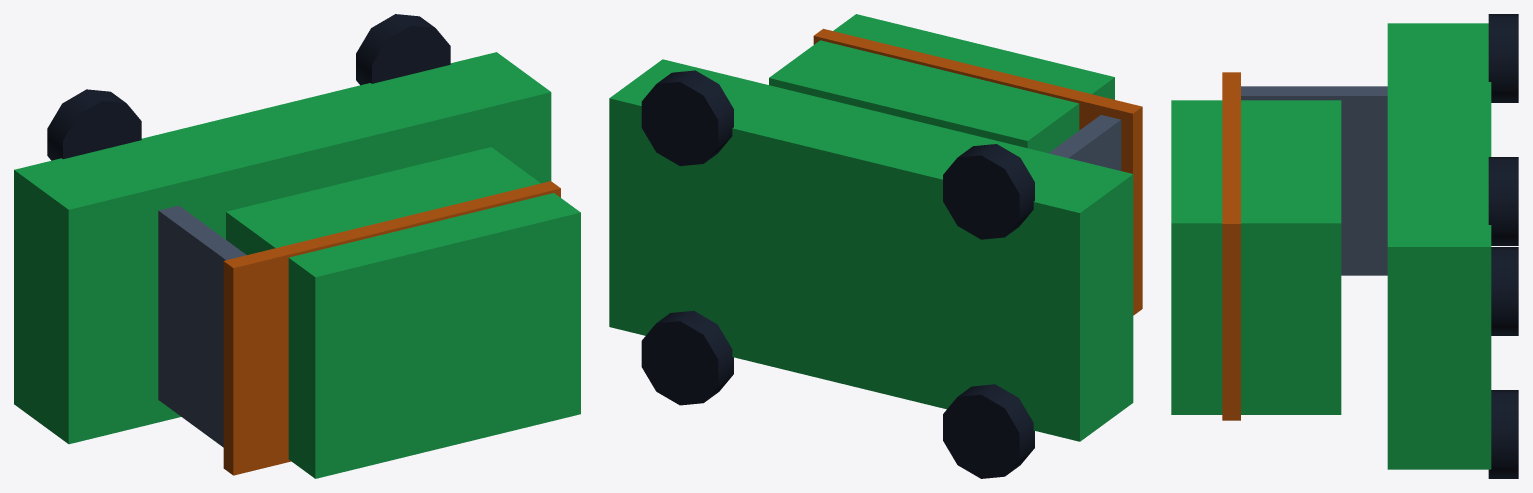
Rendered from vehicle.golf-cart.glb.
3 views of the same model, side by side, from view 1: azimuth 30°, elevation 25°; view 2: azimuth 150°, elevation 25°; view 3: azimuth 270°, elevation 25° (orthographic). The views are drawn at different scales.
Visible parts, largest first — view 1: vehicle.golf-cart; view 2: vehicle.golf-cart; view 3: vehicle.golf-cart.
Boxes of the visible parts, x1,y1,x2,y2 form: vehicle.golf-cart: (14,14,580,478); vehicle.golf-cart: (609,14,1142,478); vehicle.golf-cart: (1171,14,1518,478).
Size of the model in its own units: 2.8 by 1.84 by 1.84.
